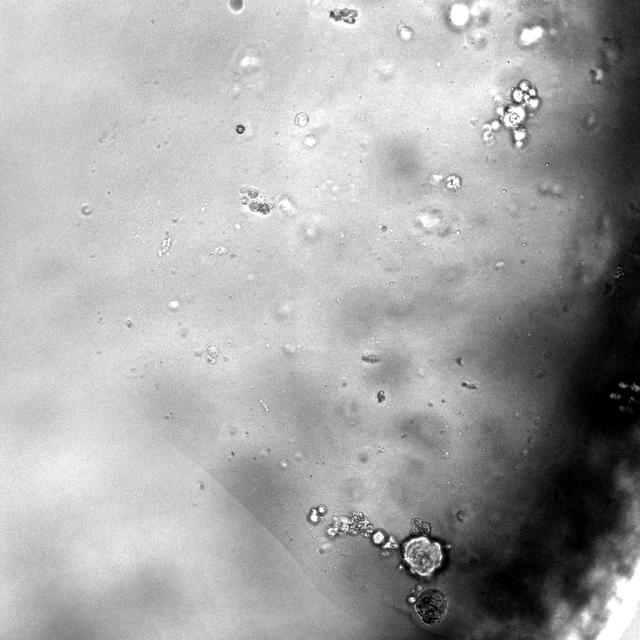organoid: (325, 511, 451, 581), (481, 79, 541, 148), (406, 584, 448, 626), (608, 380, 639, 418), (239, 186, 274, 215), (329, 8, 358, 24), (308, 505, 326, 524), (445, 174, 461, 191), (228, 0, 244, 14), (294, 112, 309, 126), (235, 124, 245, 134)
